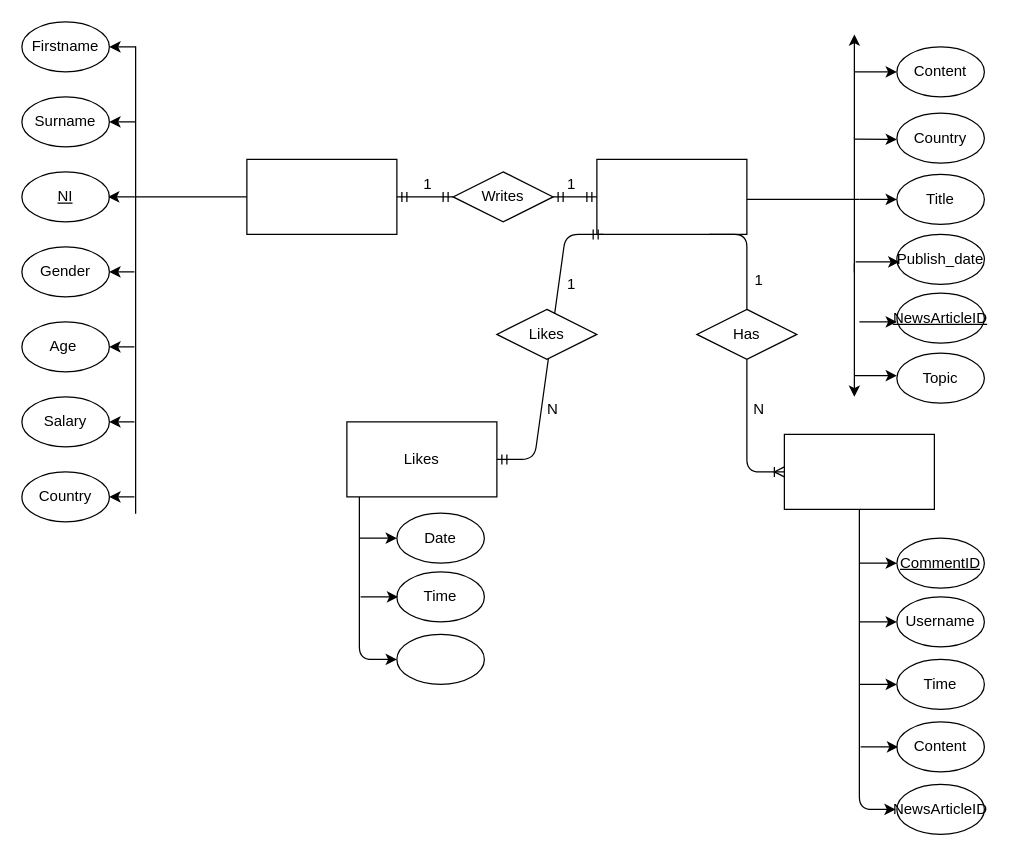
The diagram is 1009 pixels wide and 856 high, and some of its shapes have lost their labels. Here are the shapes that lost their labels. From the top down, the centre of each, then its label:
At (x=321, y=196): "Author".
At (x=671, y=196): "NewsArticle".
At (x=858, y=471): "Comments".
At (x=440, y=658): "LikeID".
